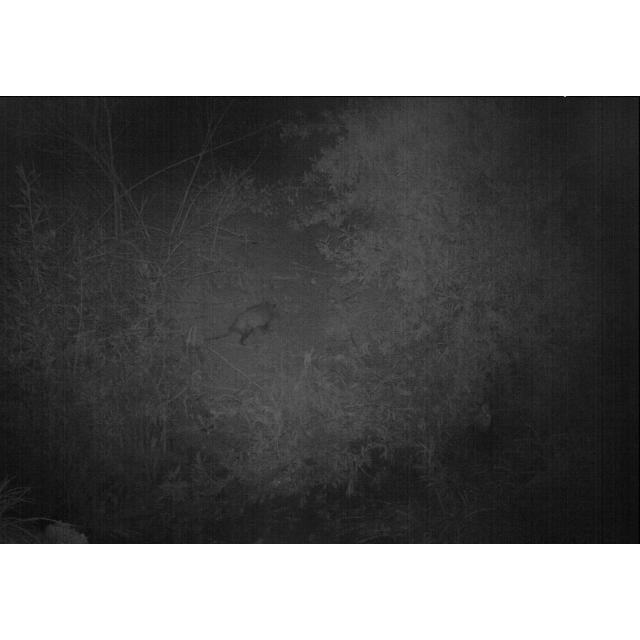animals: (210, 294, 280, 344)
